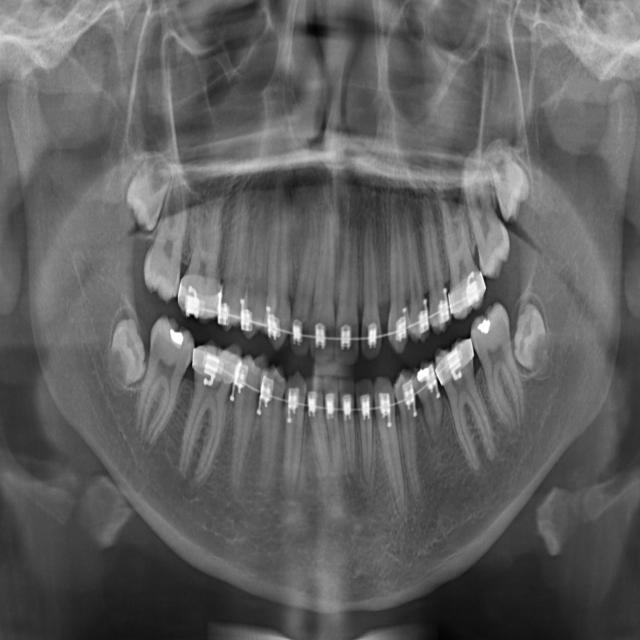3M ESPE Implant: (119, 146, 173, 232)
AGS Medikal Implant: (362, 217, 381, 356)
AMerOss Implant: (389, 208, 409, 352)
Amalgam filling: (403, 204, 431, 341)
Anthogyr Implant: (415, 195, 453, 330)
Bicon Implant: (438, 191, 490, 318)
BioHorizons Implant: (454, 148, 517, 279)
BioLife Implant: (479, 134, 540, 225)
Biomet 3i Implant: (509, 302, 559, 376)
Blue Sky Bio Implant: (463, 300, 532, 435)
Camlog Implant: (430, 337, 504, 472)
Caries: (139, 160, 197, 302)
Composite filling: (411, 358, 454, 444)
Cowellmedi Implant: (393, 363, 424, 501)
Crown: (370, 376, 406, 510)
DENTSPLY Implant: (354, 378, 372, 481)
Dentatus Implant: (337, 377, 363, 482)
Dentis Implant: (320, 374, 345, 471)
Dentium Implant: (303, 373, 333, 480)
Euroteknika Implant: (283, 372, 306, 490)
Filling: (249, 363, 287, 482)
Frontier Implant: (213, 351, 269, 494)
Hiossen Implant: (176, 189, 226, 321)
Implant: (131, 314, 198, 456)
Implant Direct: (161, 336, 244, 485)
Keystone Dental Implant: (103, 315, 150, 389)
MIS Implant: (215, 182, 257, 330)
Mandible: (240, 193, 275, 340)
Maxilla: (259, 182, 302, 351)
Megagen Implant: (287, 208, 324, 357)
Neodent Implant: (310, 206, 338, 362)
Neoss Implant: (334, 211, 363, 363)
